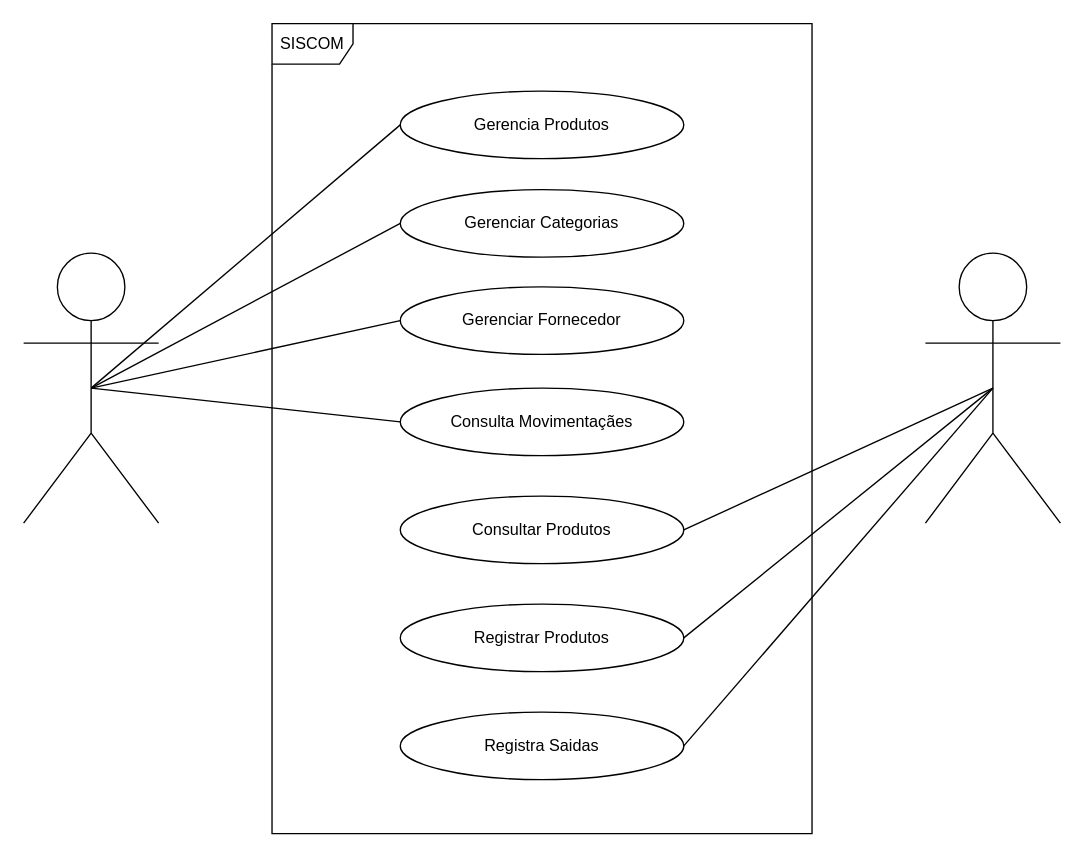
Some shapes in this 1084 by 857 pixel diagram are drawn without their labels. Here are the shapes that lost their labels. From the top down, the centre of each, then its label:
the point at 90,387: Administrador
the point at 992,387: Operador
